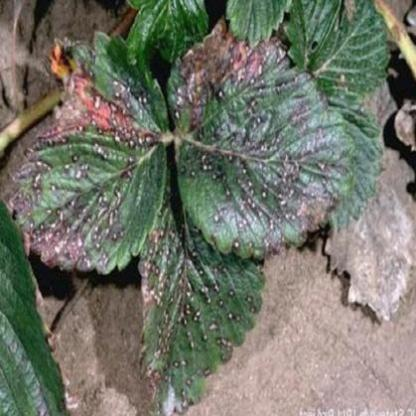Strawberry_Leaf_Spot: (166, 16, 358, 261), (6, 31, 170, 273), (137, 198, 267, 415)
